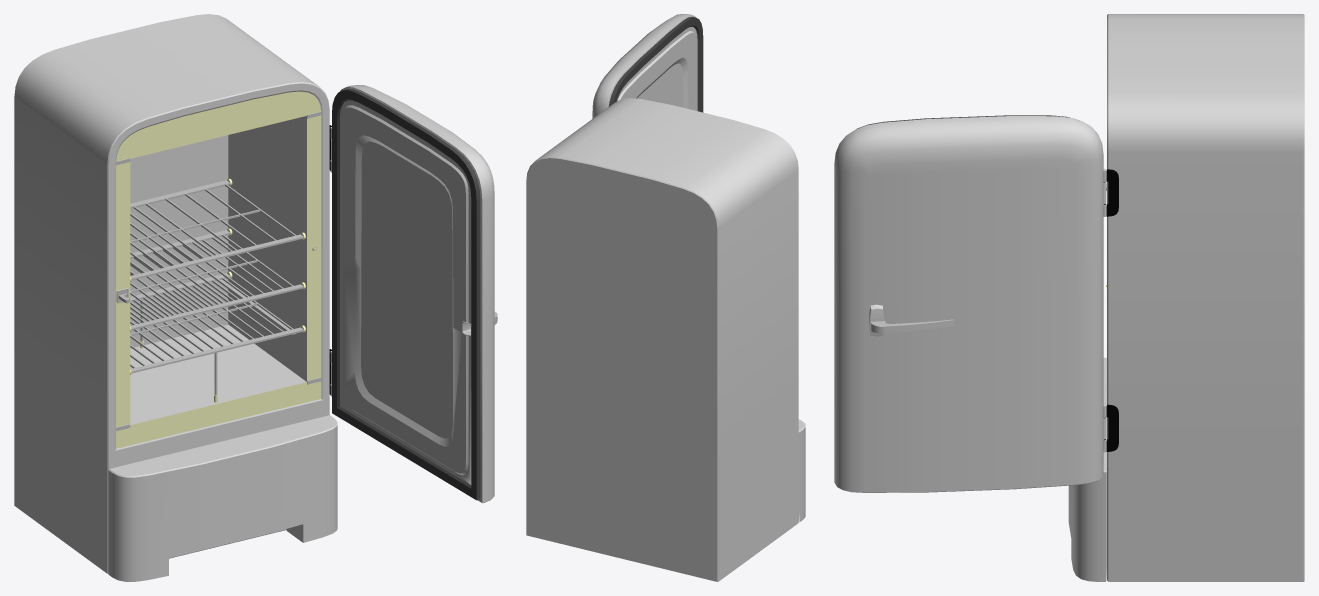
Rendered from SM_Nevera.fbx.
The picture shows the model from 3 angles, left to right: view 1: azimuth 30°, elevation 25°; view 2: azimuth 150°, elevation 25°; view 3: azimuth 270°, elevation 25°; orthographic projection. The views are drawn at different scales.
Parts seen in each view (by area): view 1: Nevera.003, Nevera.033, Nevera.001, Nevera.037, Nevera.008, Nevera.009; view 2: Nevera.003, Nevera.033, Nevera.001; view 3: Nevera.003, Nevera.033, Nevera.001, Nevera, Nevera.034.
Part boxes in pixels (<box>): Nevera.003: <box>14,14,329,573</box>; Nevera.033: <box>332,85,494,503</box>; Nevera.001: <box>108,415,337,581</box>; Nevera.037: <box>130,273,303,373</box>; Nevera.008: <box>130,230,303,330</box>; Nevera.009: <box>130,180,303,280</box>; Nevera.003: <box>526,98,798,581</box>; Nevera.033: <box>592,14,703,118</box>; Nevera.001: <box>798,419,805,522</box>; Nevera.003: <box>1107,14,1304,581</box>; Nevera.033: <box>834,115,1103,492</box>; Nevera.001: <box>1068,357,1106,581</box>; Nevera: <box>1103,168,1118,452</box>; Nevera.034: <box>871,319,954,333</box>.
Size of the model in its own units: 87.82 by 133 by 121.
